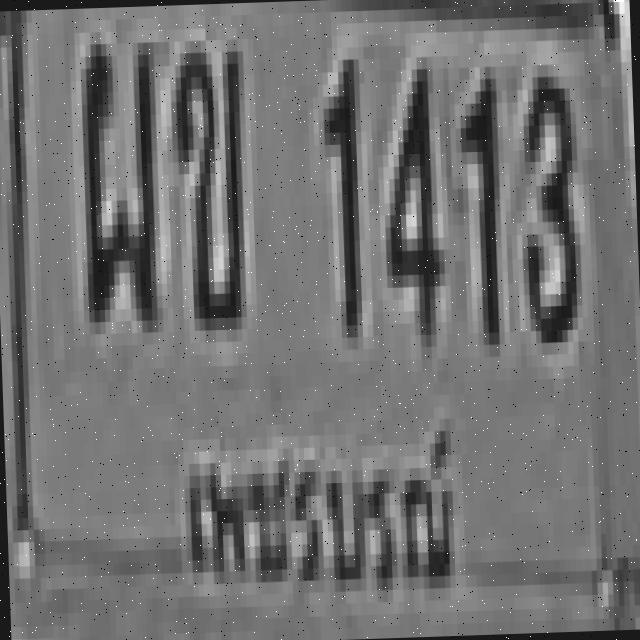1: (316, 47, 362, 326), (456, 61, 502, 340)
11KhorKhai: (168, 39, 246, 319)
3: (513, 64, 575, 331)
37PhorPhueng: (74, 30, 163, 322)
4: (376, 57, 438, 336)
Phetchabun: (164, 390, 472, 638)
